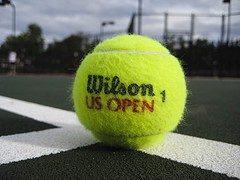tennis ball: (72, 32, 189, 151)
